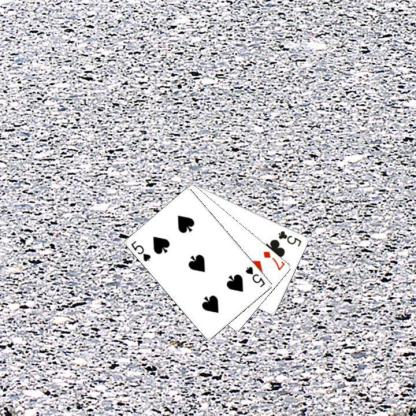5C: (276, 228, 303, 248)
5S: (129, 238, 152, 263), (244, 264, 266, 288)
7D: (260, 249, 286, 272)
